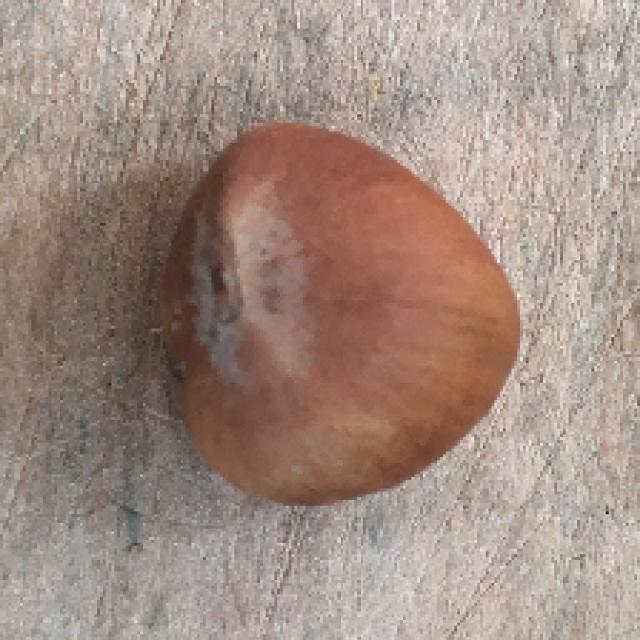damagedHazelnut: (158, 120, 526, 511)
